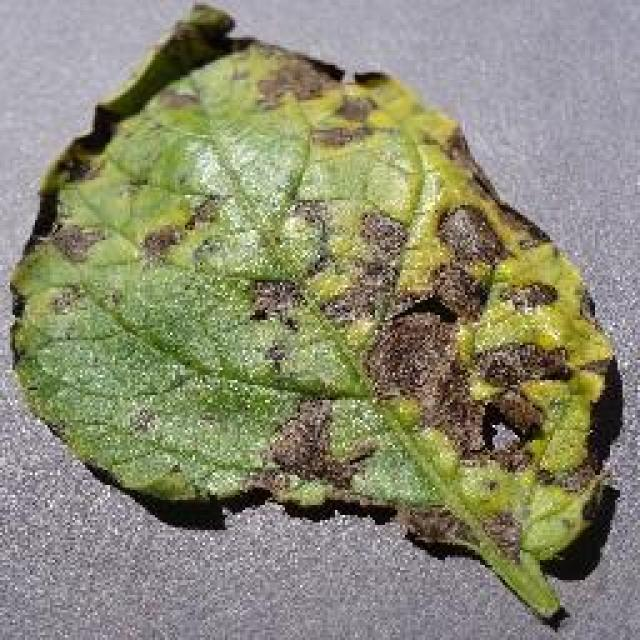Potato: (5, 0, 620, 622)
